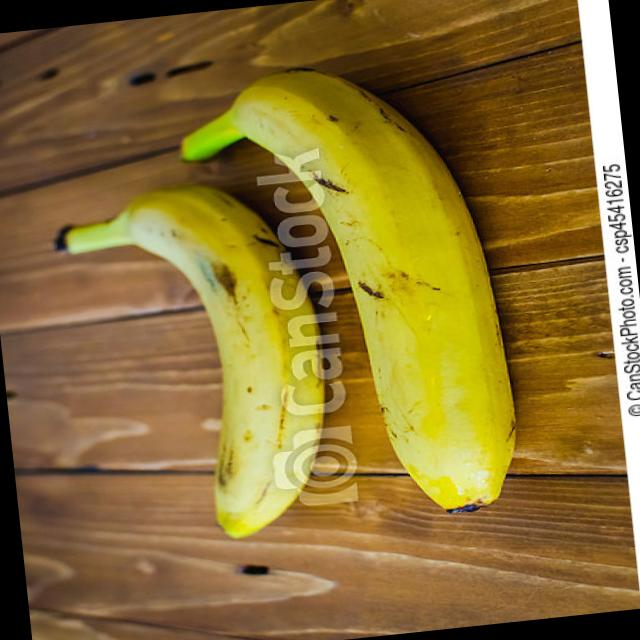banana: (170, 48, 524, 536), (53, 169, 339, 555)
